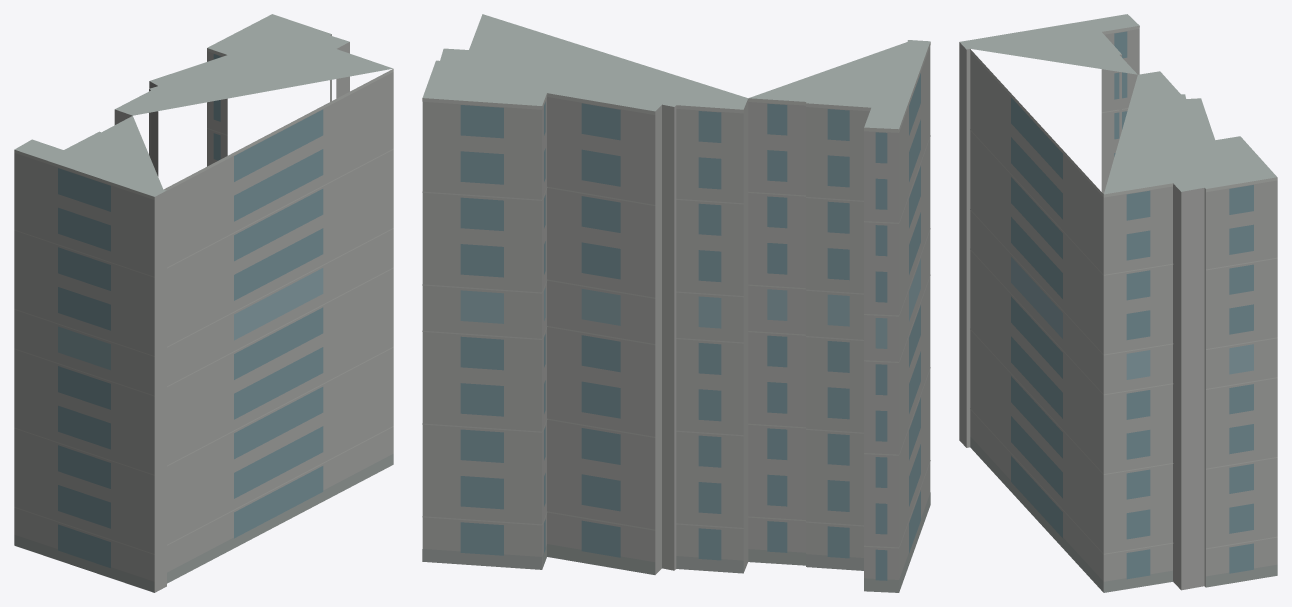
Rendered from survey-upis-32837198.glb.
The picture shows the model from 3 angles, left to right: view 1: azimuth 30°, elevation 25°; view 2: azimuth 150°, elevation 25°; view 3: azimuth 270°, elevation 25°; orthographic projection. The views are drawn at different scales.
Parts seen in each view (by area): view 1: survey-upis-32837198.tmp; view 2: survey-upis-32837198.tmp; view 3: survey-upis-32837198.tmp.
Boxes of the visible parts, box(x1,y1,x2,y2) form: survey-upis-32837198.tmp: box(14, 14, 393, 592); survey-upis-32837198.tmp: box(422, 14, 930, 592); survey-upis-32837198.tmp: box(959, 14, 1277, 592).
Size of the model in its own units: 29.65 by 30.5 by 22.09.
